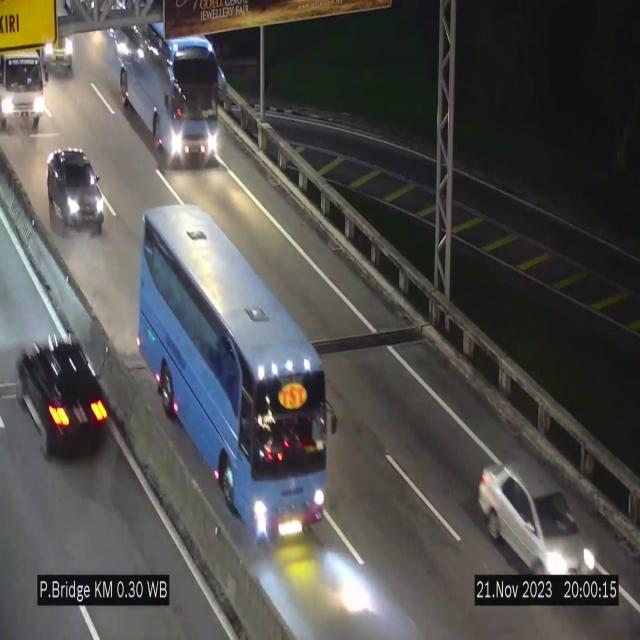Bus: (136, 200, 337, 550), (98, 29, 229, 170)
Car: (5, 315, 115, 470), (476, 453, 600, 573), (42, 143, 108, 237), (42, 22, 84, 70)
Truck: (0, 28, 50, 142)
